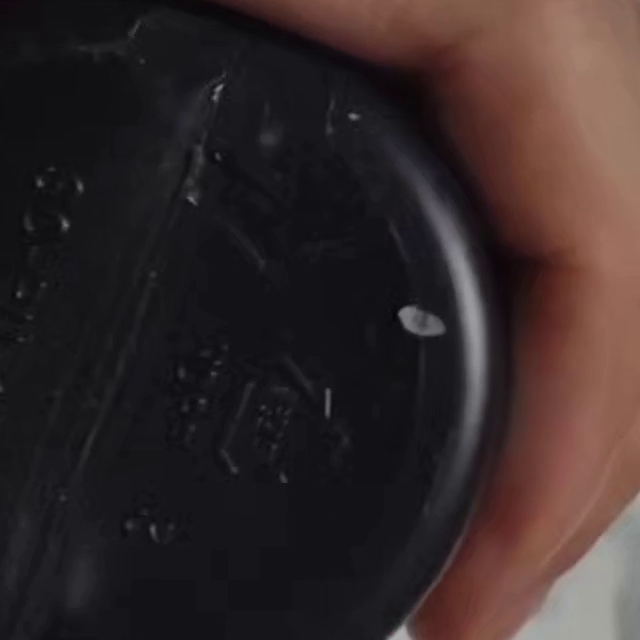Plastic: (210, 361, 342, 486)
